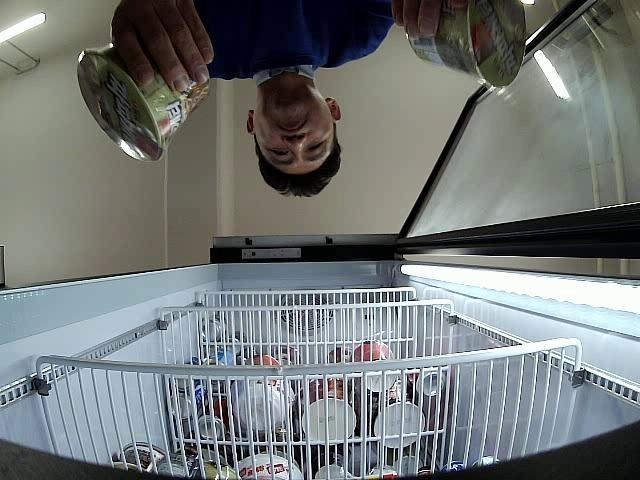03_chapagetti_L: (76, 44, 212, 162), (406, 0, 527, 89)
